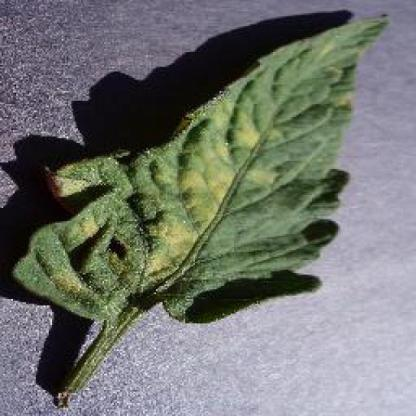Tomato_Leaf_Mold: (11, 13, 388, 317)
